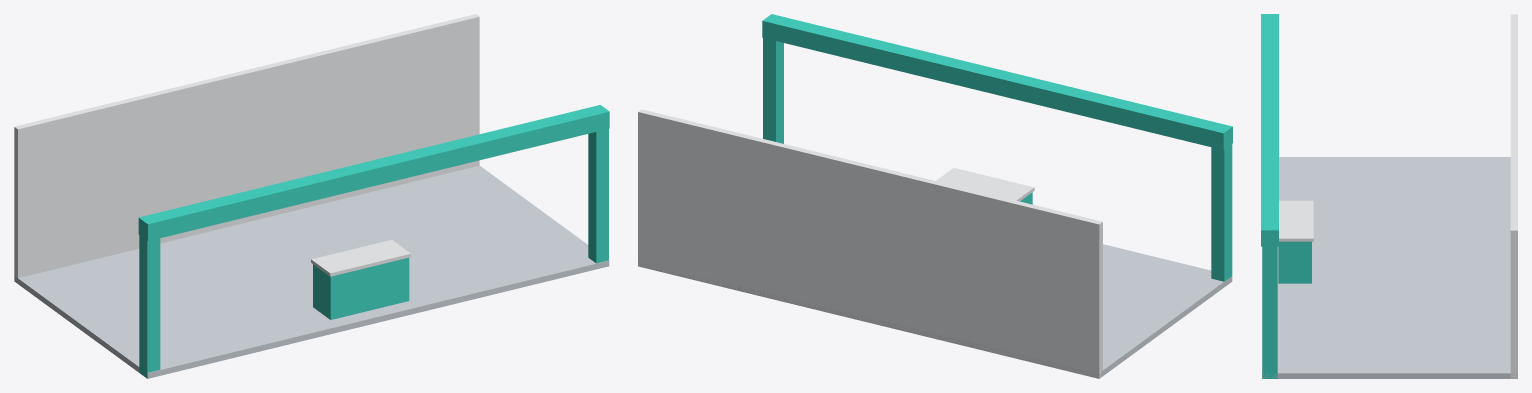
3 renders of one model, left to right at view 1: azimuth 30°, elevation 25°; view 2: azimuth 150°, elevation 25°; view 3: azimuth 270°, elevation 25°, orthographic. The views are drawn at different scales.
Visible parts, largest first — view 1: Exhibition Booth Concept; view 2: Exhibition Booth Concept; view 3: Exhibition Booth Concept.
Part boxes in pixels (x1,y1,x2,y2): Exhibition Booth Concept: (14, 14, 609, 378); Exhibition Booth Concept: (638, 14, 1232, 378); Exhibition Booth Concept: (1261, 14, 1517, 378).
Bounding box in the file's own units: 10 × 3.2 × 5.02.
